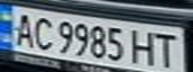5: (106, 25, 130, 63)
8: (87, 22, 109, 61)
9: (51, 18, 75, 55), (69, 20, 90, 57)
A: (6, 10, 39, 47)
C: (30, 14, 57, 52)
H: (127, 27, 160, 66)
T: (151, 29, 184, 70)
